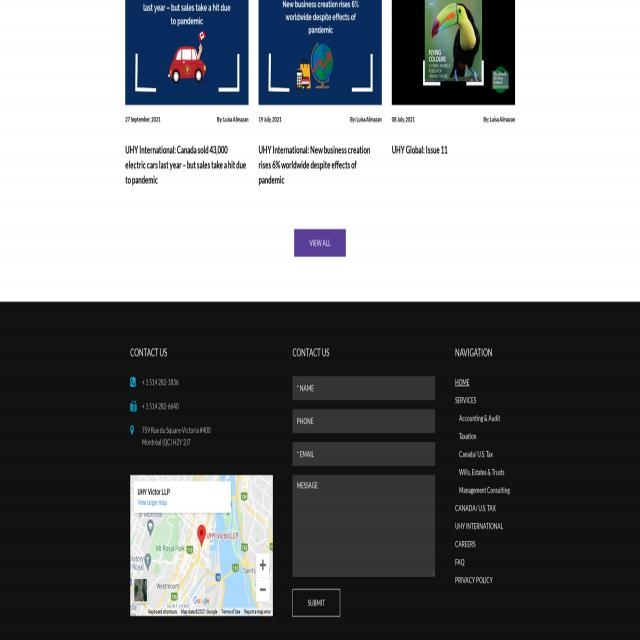button: (125, 0, 248, 105), (258, 0, 381, 105), (391, 0, 514, 105), (294, 228, 346, 256), (292, 588, 340, 616)
field: (293, 474, 435, 576), (293, 441, 435, 466), (293, 376, 435, 400), (293, 409, 435, 433)
